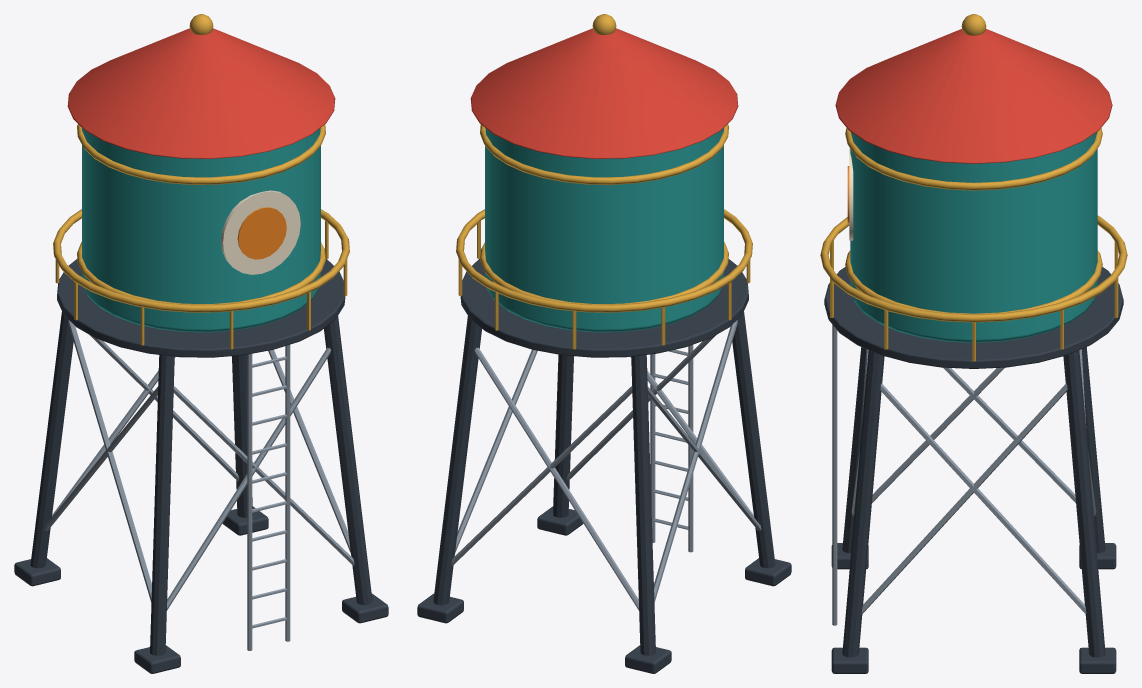
The model's file is water_tower.glb.
3 views of the same model, side by side, from view 1: azimuth 30°, elevation 25°; view 2: azimuth 150°, elevation 25°; view 3: azimuth 270°, elevation 25° (orthographic). The views are drawn at different scales.
Parts seen in each view (by area): view 1: water_tower_body; view 2: water_tower_body; view 3: water_tower_body.
Boxes of the visible parts, x1=… form: water_tower_body: x1=14, y1=14, x2=388, y2=673; water_tower_body: x1=417, y1=14, x2=791, y2=673; water_tower_body: x1=820, y1=14, x2=1127, y2=673.
Bounding box in the file's own units: 2.98 × 6.42 × 2.98.
